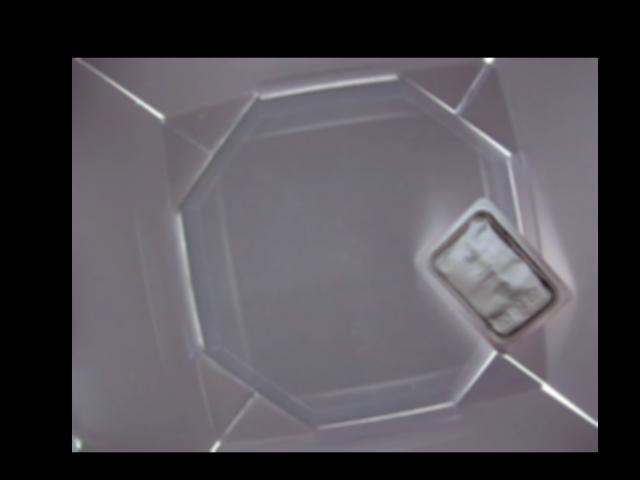Medicine: (415, 197, 570, 356)
